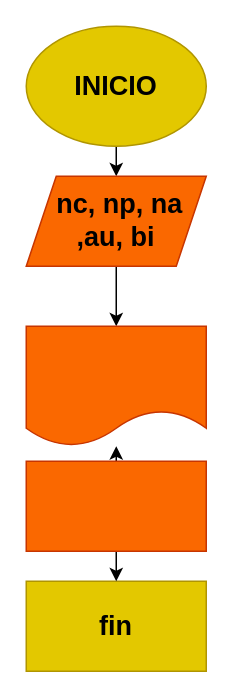
Image size: 233x698. Some labels were removed from this diagram. The shapes that lost their labels are listed below. From the top down, each one's centre as x and y in pixels, then its label:
[115,385]: nd= 0.3*nc + 0.3*np +0.1*na+ 0.1*au + 0.2*bi
[115,505]: nd
